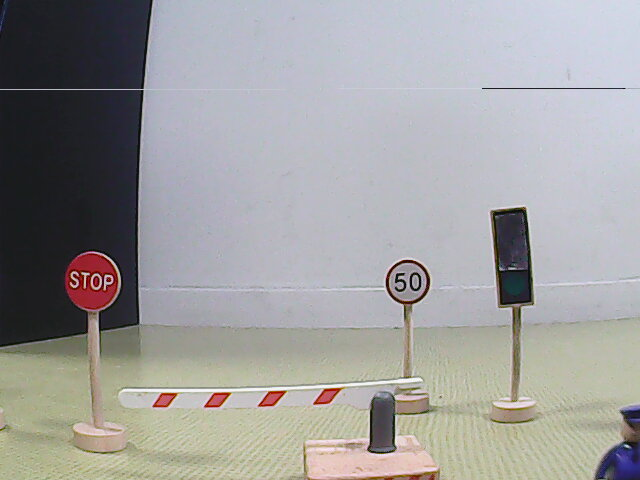barrier: (117, 375, 444, 480)
green_traffic_sign: (493, 209, 533, 306)
person: (595, 405, 639, 477)
sign_50: (384, 259, 431, 305)
stop_sign: (65, 251, 120, 312)
